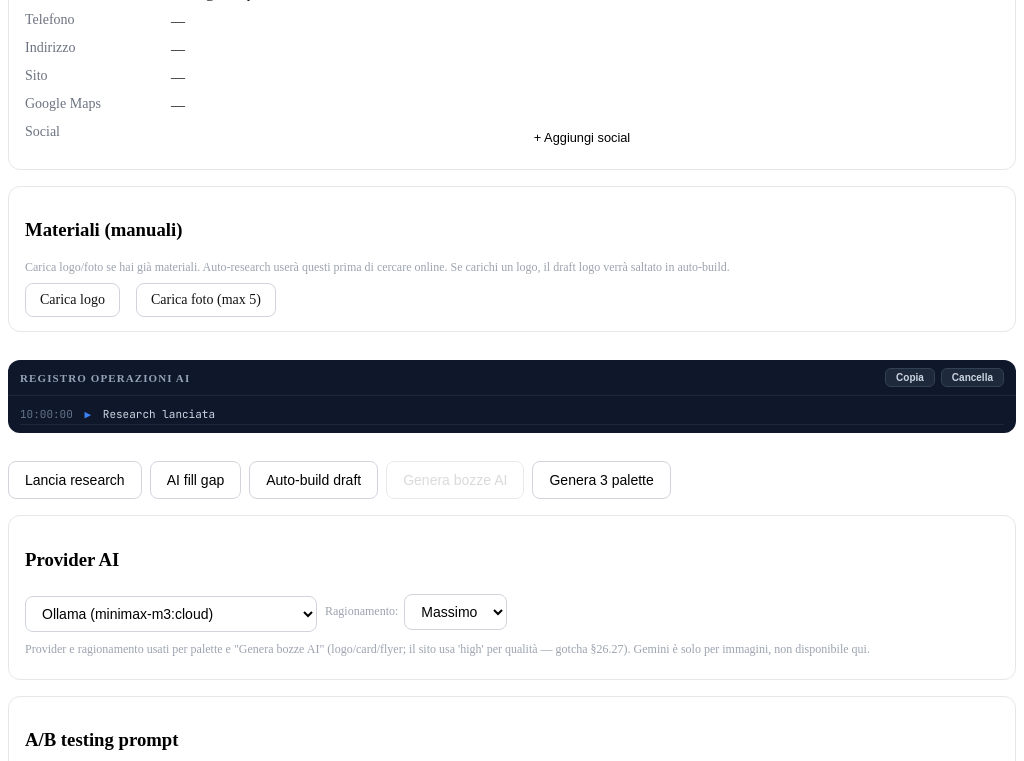
Test: TB-027 CustomerDetail › click Cancella → log svuotato e sessionStorage pulito
(page scrolled)
Step 1. Click the button with test id "crm-log-clear" → click(972, 378), box left=941, top=368, right=1004, bottom=387
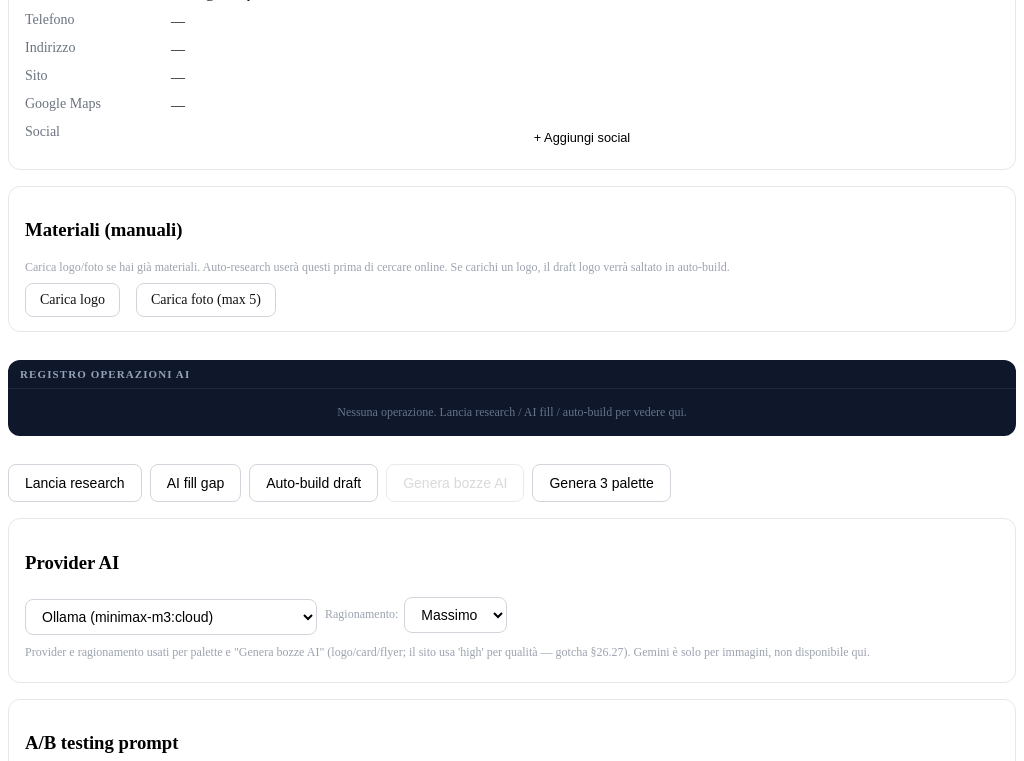
Check: the text "Nessuna operazione" is shown, box left=337, top=405, right=687, bottom=419
Check: the button with test id "crm-log-copy" is gone
Check: the button with test id "crm-log-clear" is gone
